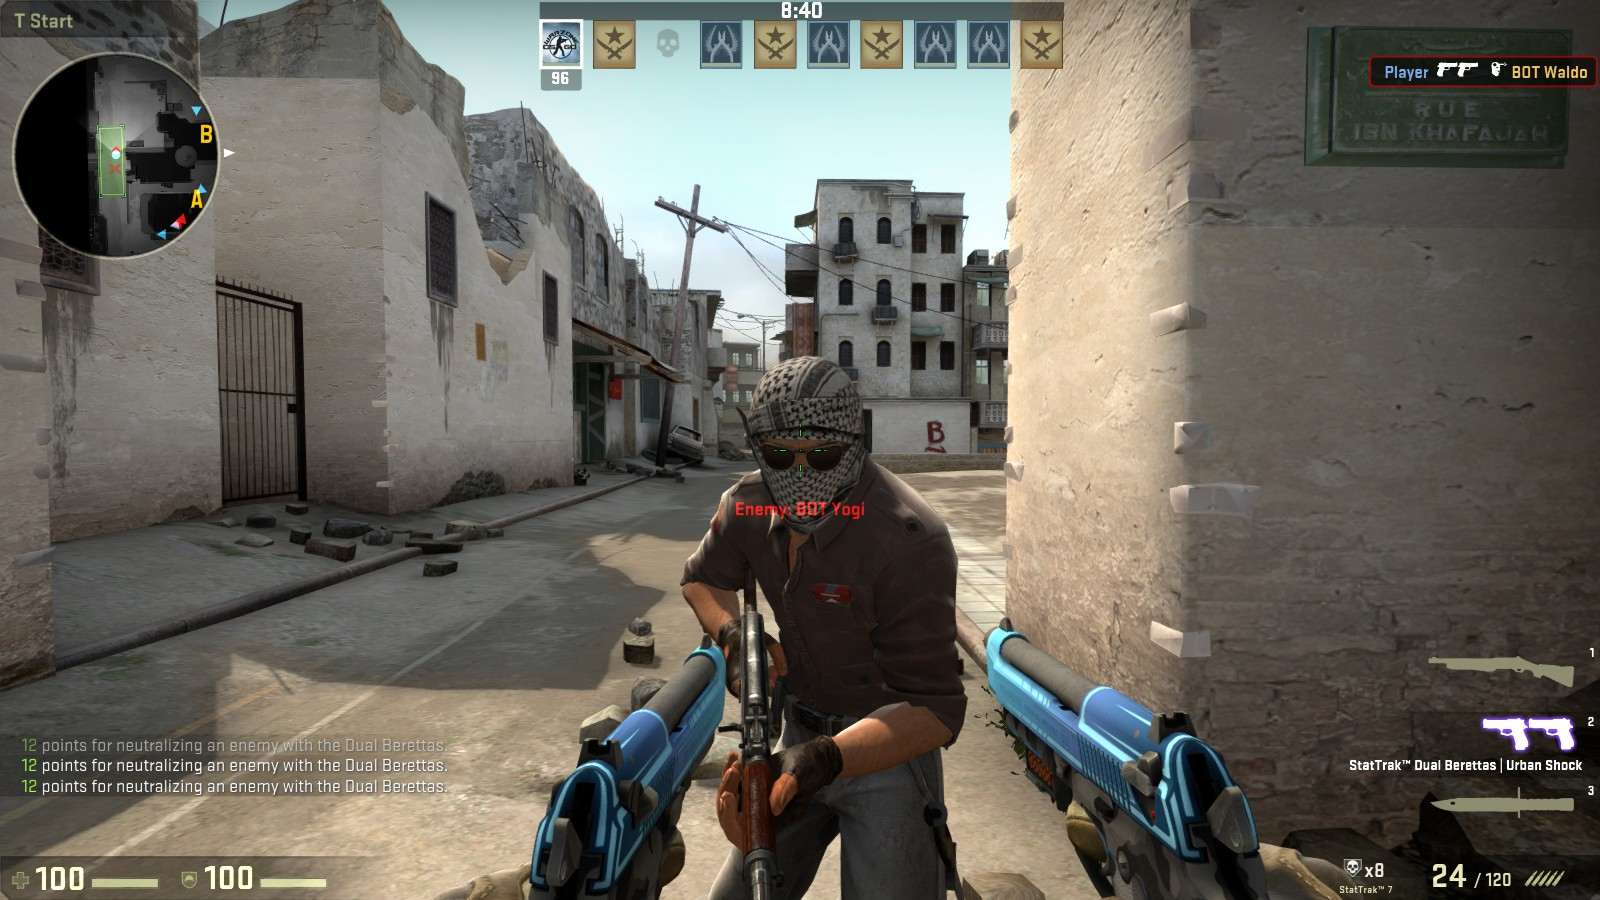t: (638, 332, 981, 900)
th: (708, 349, 902, 549)
